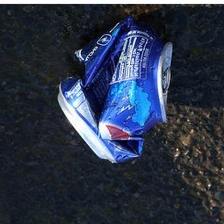can: (50, 11, 180, 169)
